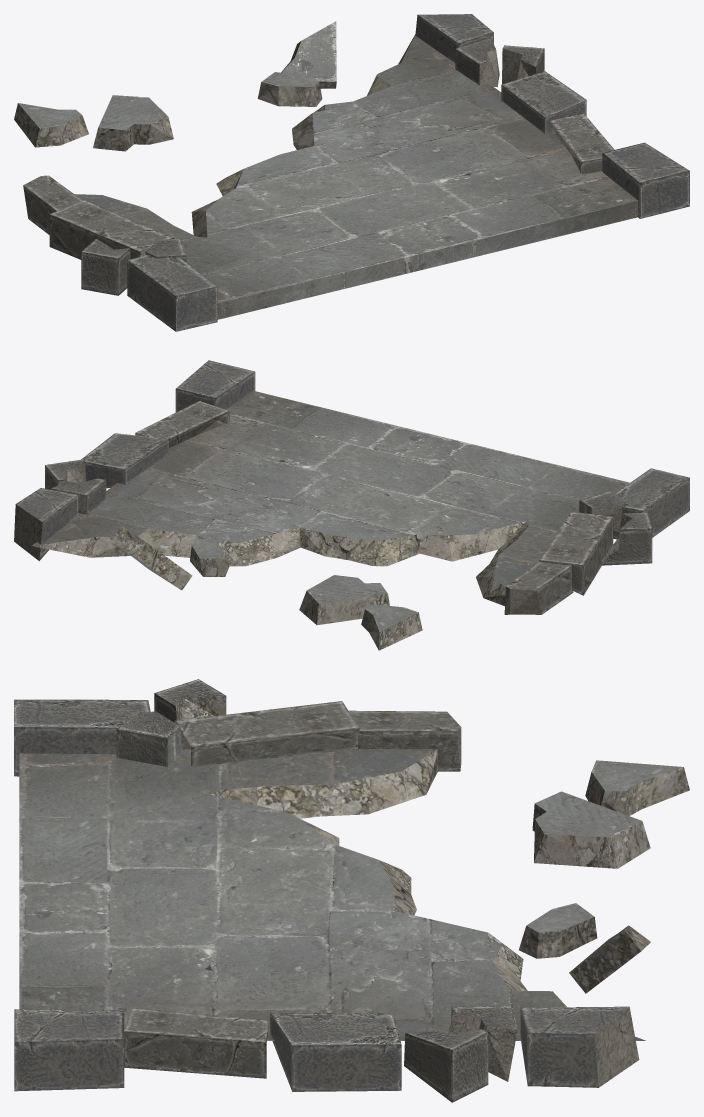
The model's file is bg_lut_lucastle_street05_sm_phs.FBX.
The picture shows the model from 3 angles, top to bottom: view 1: azimuth 30°, elevation 25°; view 2: azimuth 150°, elevation 25°; view 3: azimuth 270°, elevation 25°; orthographic projection. The views are drawn at different scales.
Parts seen in each view (by area): view 1: bg_lut_lucastle_street05_sm_phs; view 2: bg_lut_lucastle_street05_sm_phs; view 3: bg_lut_lucastle_street05_sm_phs.
Boxes of the visible parts, x1,y1,x2,y2 form: bg_lut_lucastle_street05_sm_phs: (14,14,689,331); bg_lut_lucastle_street05_sm_phs: (14,360,689,650); bg_lut_lucastle_street05_sm_phs: (14,679,689,1102).
Size of the model in its own units: 427 by 40.58 by 329.
